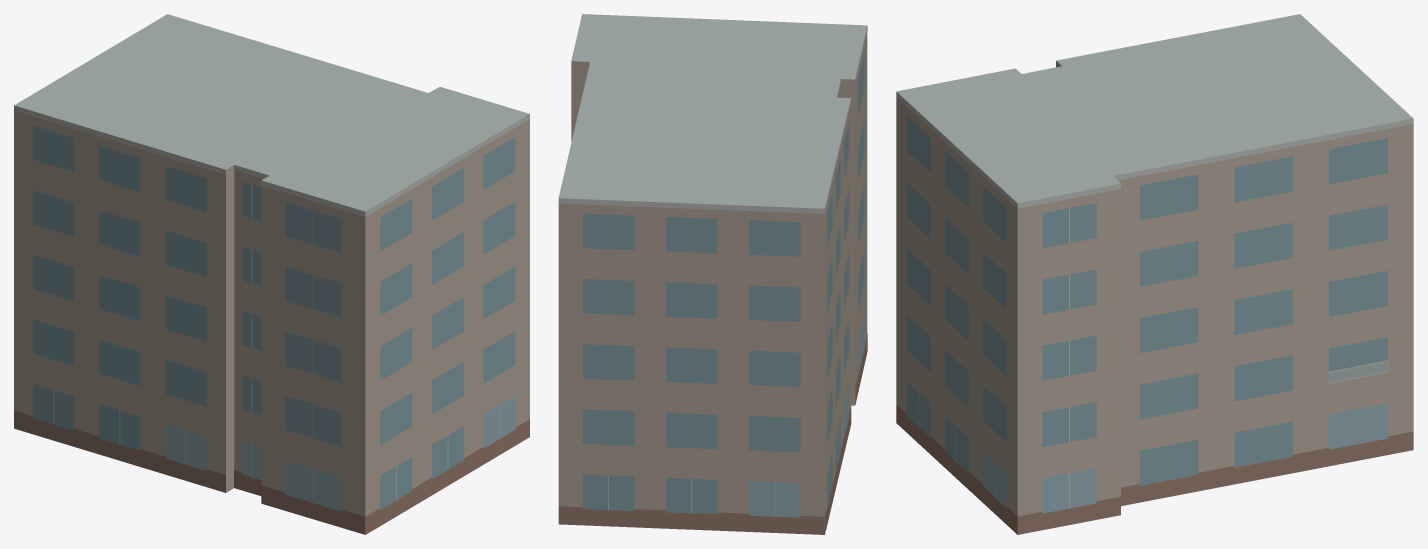
The model's file is survey-upis-32689675.glb.
The picture shows the model from 3 angles, left to right: view 1: azimuth 30°, elevation 25°; view 2: azimuth 150°, elevation 25°; view 3: azimuth 270°, elevation 25°; orthographic projection. The views are drawn at different scales.
Visible parts, largest first — view 1: survey-upis-32689675.tmp; view 2: survey-upis-32689675.tmp; view 3: survey-upis-32689675.tmp.
Boxes of the visible parts, <box> form: survey-upis-32689675.tmp: <box>14,14,529,534</box>; survey-upis-32689675.tmp: <box>558,14,867,534</box>; survey-upis-32689675.tmp: <box>896,14,1413,534</box>.
Bounding box in the file's own units: 18.38 × 15 × 21.22.
